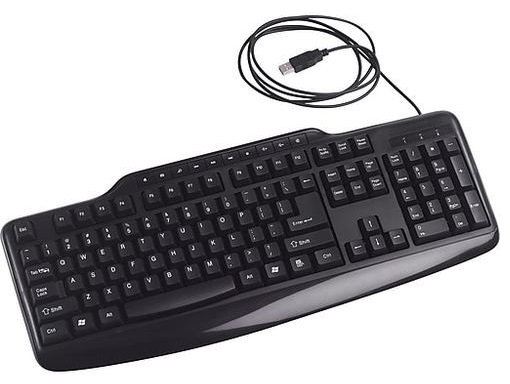keyboard: (9, 110, 500, 347)
